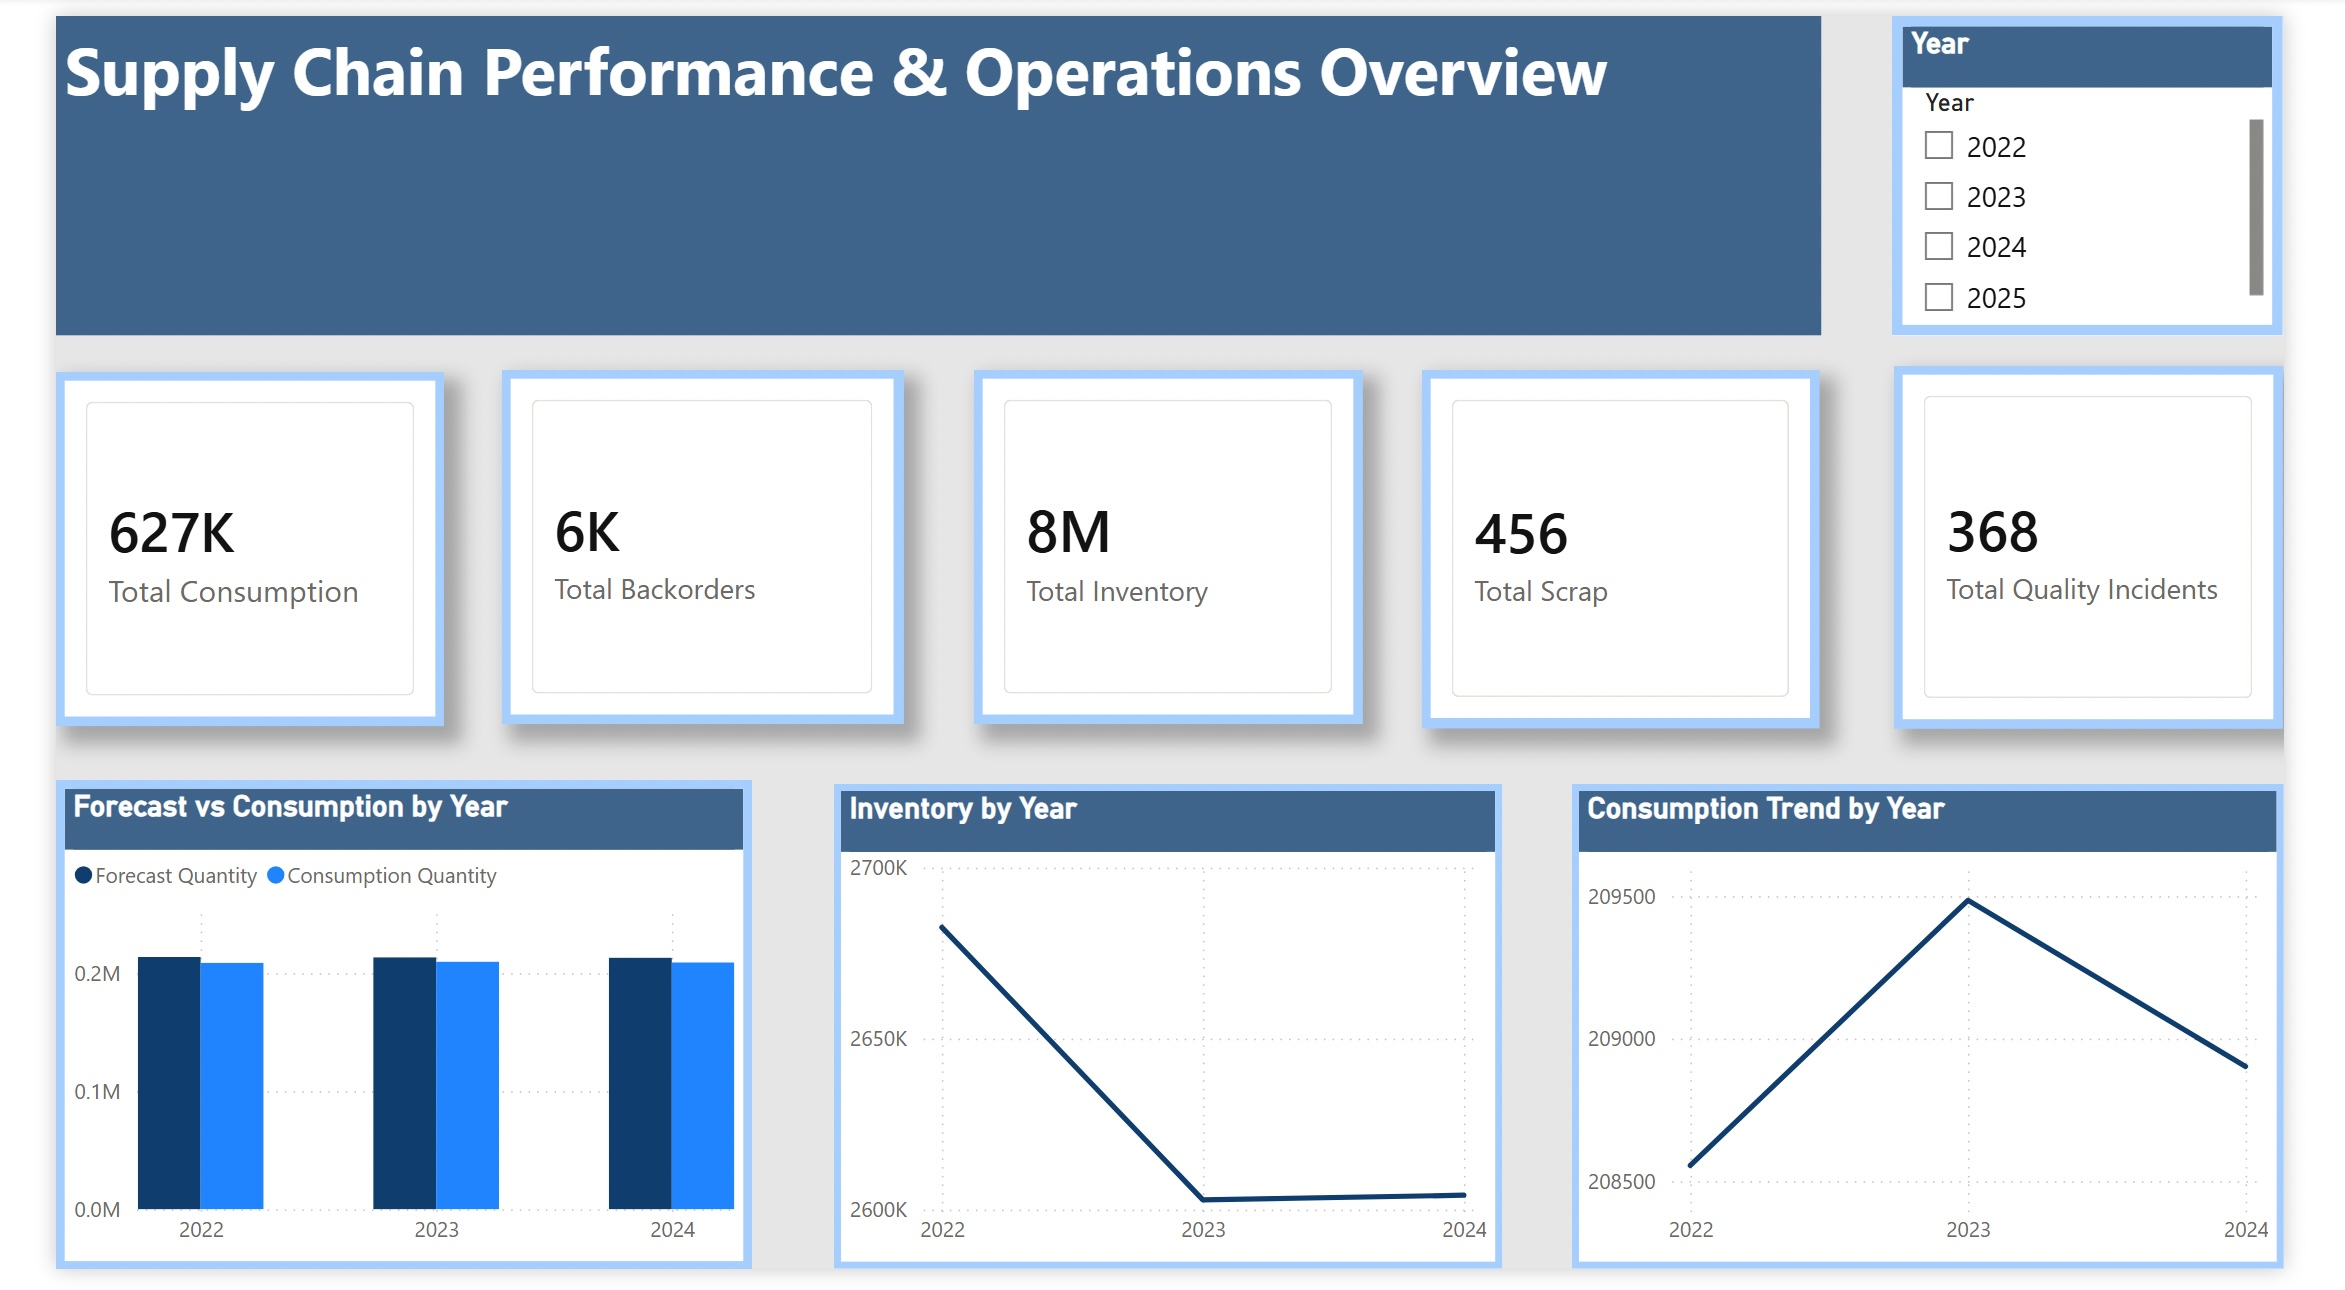

This screenshot's page, from the dashboard's own definition file:
{"tool":"powerbi","page":{"name":"Overview","canvas":[1280,720],"ordinal":0},"visuals":[{"type":"cardVisual","fields":{"Data":["Sum(supply_chain_project supply_chain_history.consumption_qty)"]},"box":[0,204.4,223,203.3],"z":0},{"type":"cardVisual","fields":{"Data":["Sum(supply_chain_project supply_chain_history.backorder_qty)"]},"box":[256,203.3,230.9,203.3],"z":1000},{"type":"cardVisual","fields":{"Data":["Sum(supply_chain_project supply_chain_history.on_hand_qty)"]},"box":[527.1,203.3,223.4,203.3],"z":2000},{"type":"cardVisual","fields":{"Data":["Sum(supply_chain_project quality_incidents.scrap_qty)"]},"box":[785.6,203.3,228.4,205.8],"z":3000},{"type":"cardVisual","fields":{"Data":["supply_chain_project quality_incidents.Total Quality Incidents"]},"box":[1056.6,200.8,223.4,208.3],"z":4000},{"type":"lineChart","title":"Inventory by Year","fields":{"Category":["supply_chain_project supply_chain_history.Year"],"Y":["Sum(supply_chain_project supply_chain_history.on_hand_qty)"]},"box":[446.9,440.8,384,278.6],"z":5000},{"type":"lineChart","title":"Consumption Trend by Year","fields":{"Y":["Sum(supply_chain_project supply_chain_history.consumption_qty)"],"Category":["supply_chain_project supply_chain_history.Year"]},"box":[870.9,441.7,409.1,278.6],"z":6000},{"type":"clusteredColumnChart","title":"Forecast vs Consumption by Year","fields":{"Category":["supply_chain_project supply_chain_history.Year"],"Y":["Sum(supply_chain_project supply_chain_history.forecast_qty)","Sum(supply_chain_project supply_chain_history.consumption_qty)"]},"box":[0,438.8,400,281.6],"z":7000},{"type":"textbox","box":[0,0,1014.3,183.7],"z":8000},{"type":"slicer","title":"Year","fields":{"Values":["YearTable.Year"]},"box":[1055.6,0,224.4,183.3],"z":9000}]}

Visuals, with their boxes in screenshot pixels (x1, y1, x2, y2), scaled from the page's 1280x720 canvas onto the 2345x1290 screenshot:
cardVisual - Sum(supply_chain_project supply_chain_history.consumption_qty): box(0, 366, 409, 730)
cardVisual - Sum(supply_chain_project supply_chain_history.backorder_qty): box(469, 364, 892, 728)
cardVisual - Sum(supply_chain_project supply_chain_history.on_hand_qty): box(966, 364, 1375, 728)
cardVisual - Sum(supply_chain_project quality_incidents.scrap_qty): box(1439, 364, 1858, 733)
cardVisual - supply_chain_project quality_incidents.Total Quality Incidents: box(1936, 360, 2344, 733)
"Inventory by Year" lineChart: box(819, 790, 1522, 1289)
"Consumption Trend by Year" lineChart: box(1596, 791, 2344, 1289)
"Forecast vs Consumption by Year" clusteredColumnChart: box(0, 786, 733, 1289)
textbox: box(0, 0, 1858, 329)
"Year" slicer: box(1934, 0, 2344, 328)
